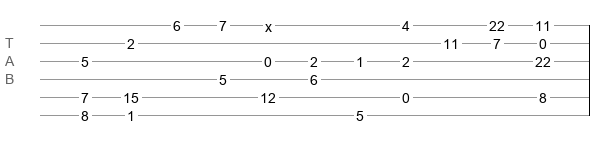0: (264, 54, 272, 64), (402, 90, 410, 100), (539, 36, 547, 46)
1: (127, 108, 135, 118), (356, 54, 364, 64)
11: (443, 36, 459, 46), (535, 18, 551, 28)
12: (260, 90, 276, 100)
15: (123, 90, 139, 100)
2: (127, 36, 135, 46), (310, 54, 318, 64), (402, 54, 410, 64)
22: (489, 18, 505, 28), (535, 54, 551, 64)
4: (402, 18, 410, 28)
5: (81, 54, 89, 64), (219, 72, 227, 82), (356, 108, 364, 118)
6: (173, 18, 181, 28), (310, 72, 318, 82)
7: (81, 90, 89, 100), (219, 18, 227, 28), (493, 36, 501, 46)
8: (81, 108, 89, 118), (539, 90, 547, 100)
x: (265, 19, 272, 27)
